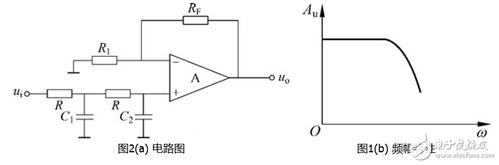amplifier: (162, 50, 232, 107)
cap1: (133, 109, 155, 123), (73, 111, 97, 123)
res1: (179, 12, 213, 27), (102, 86, 135, 101), (88, 54, 121, 66), (44, 88, 75, 99)
